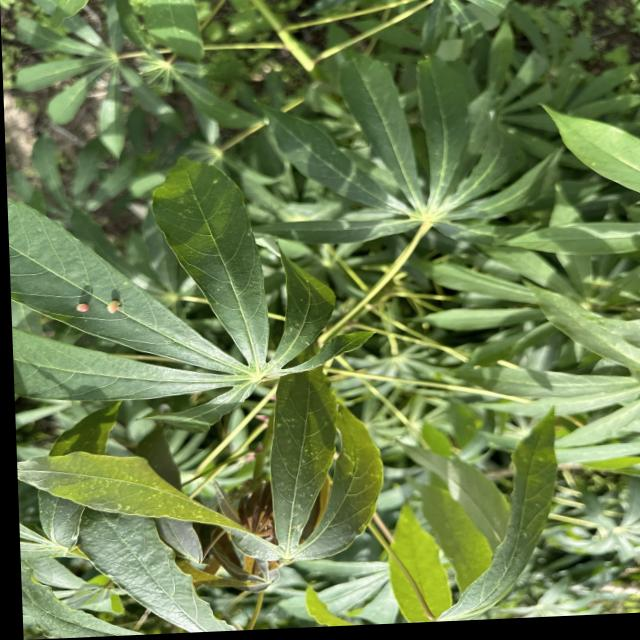Mosca: (62, 287, 92, 323), (101, 293, 121, 321)
